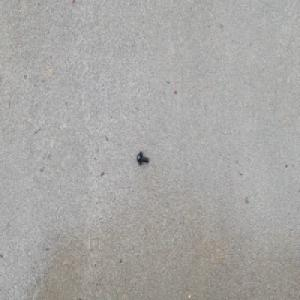BoltWasher: (136, 150, 149, 166)
